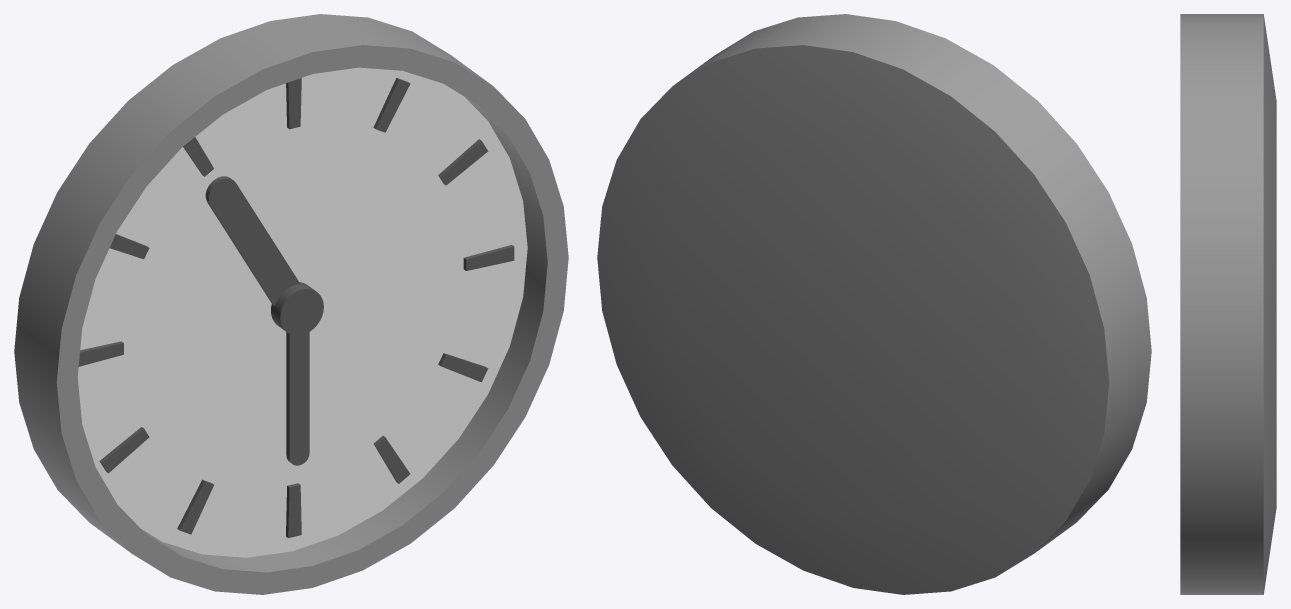
Rendered from eleven_thirty.glb.
3 views of the same model, side by side, from view 1: azimuth 30°, elevation 25°; view 2: azimuth 150°, elevation 25°; view 3: azimuth 270°, elevation 25° (orthographic).
Visible parts, largest first — view 1: Circle.2498, Circle.2499, Plane.296, Plane.297; view 2: Circle.2498; view 3: Circle.2498.
Boxes of the visible parts, x1=… form: Circle.2498: x1=14, y1=14, x2=568, y2=594; Circle.2499: x1=78, y1=78, x2=514, y2=537; Plane.296: x1=205, y1=176, x2=300, y2=305; Plane.297: x1=286, y1=332, x2=309, y2=465; Circle.2498: x1=597, y1=14, x2=1151, y2=594; Circle.2498: x1=1180, y1=14, x2=1276, y2=594.
Bounding box in the file's own units: 2.33 × 2.33 × 0.387.
1 material, 1 textured.
